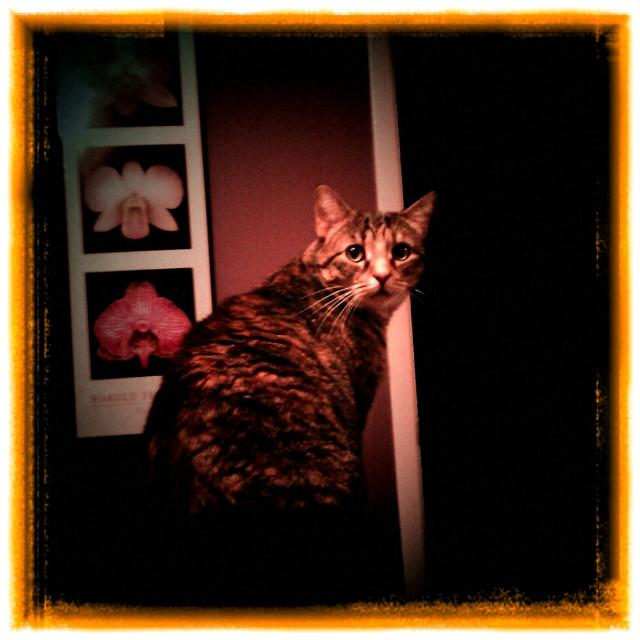Flower: (82, 154, 184, 232), (110, 285, 180, 371)
